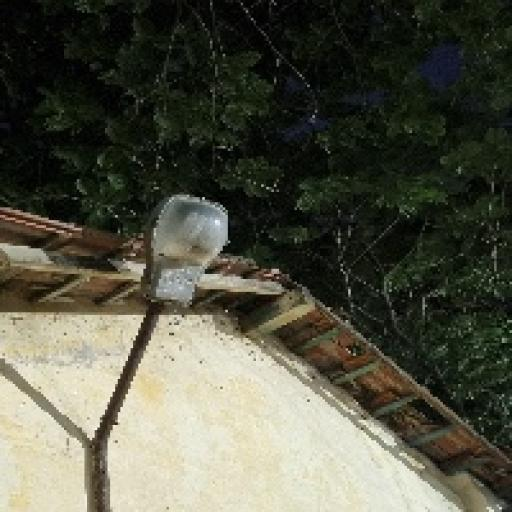Not Working: (128, 184, 242, 335)
